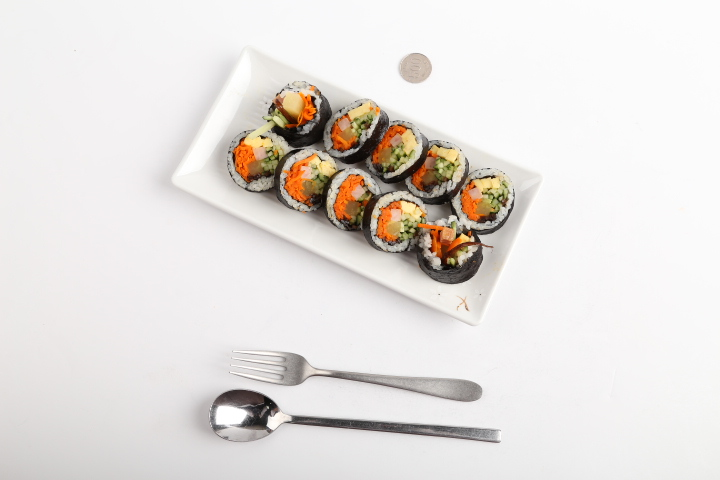dish: (171, 45, 541, 325)
ref_coin: (399, 52, 432, 83)
ref_fork: (229, 350, 320, 386)
ref_spoon: (209, 388, 299, 442)
김밥: (228, 80, 516, 284)
